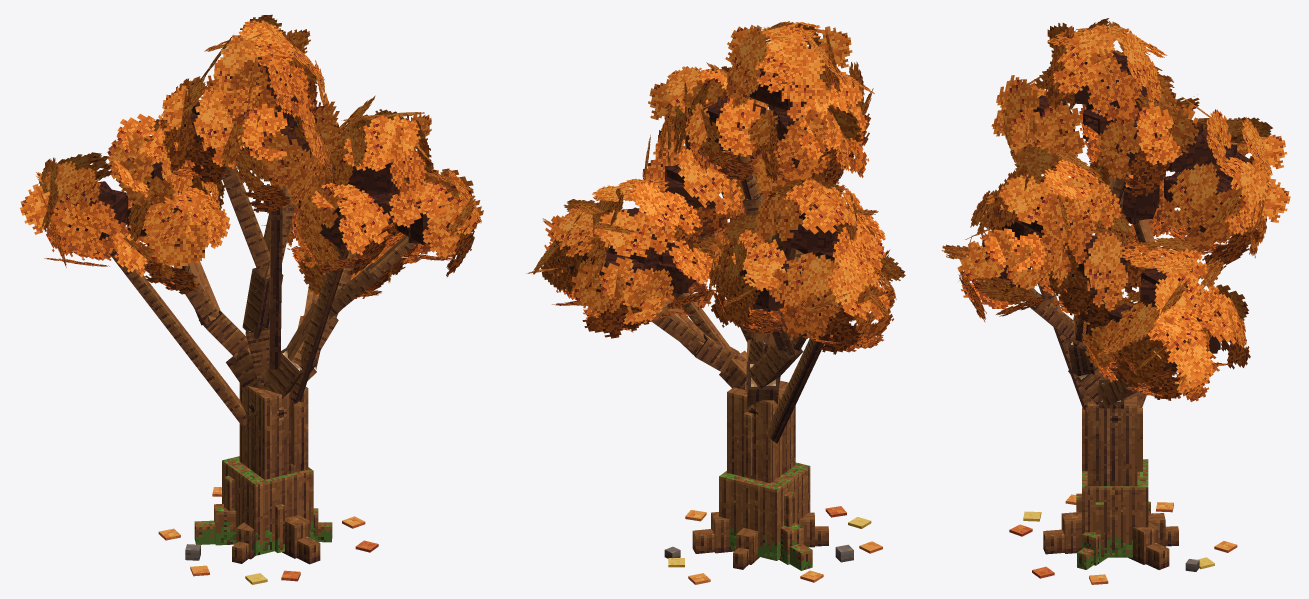
File: maple_tree_3.glb
3 views of the same model, side by side, from view 1: azimuth 30°, elevation 25°; view 2: azimuth 150°, elevation 25°; view 3: azimuth 270°, elevation 25° (orthographic).
Visible parts, largest first — view 1: maple_tree_3; view 2: maple_tree_3; view 3: maple_tree_3.
Part boxes in pixels (<box>): maple_tree_3: <box>20,14,483,584</box>; maple_tree_3: <box>526,21,905,584</box>; maple_tree_3: <box>941,18,1290,584</box>.
Bounding box in the file's own units: 5.12 × 6.51 × 4.
2 materials, 2 textured.
